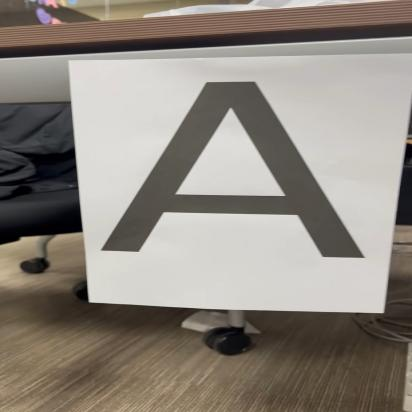seat: (93, 70, 378, 267)
